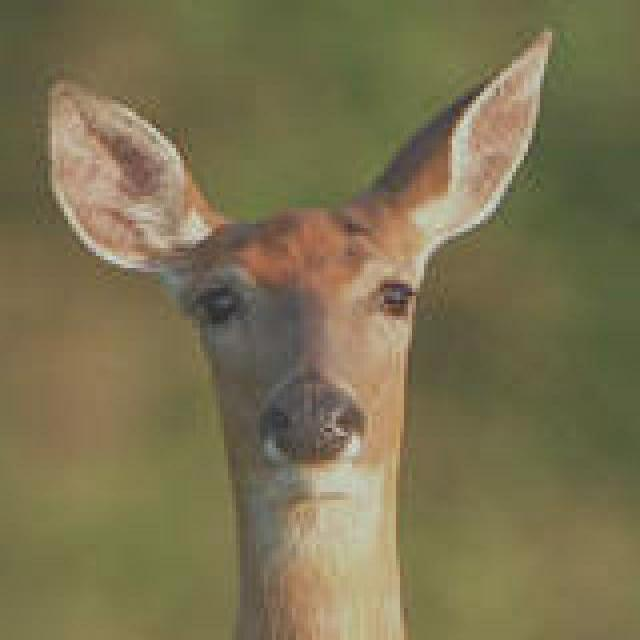deer: (40, 36, 552, 640)
